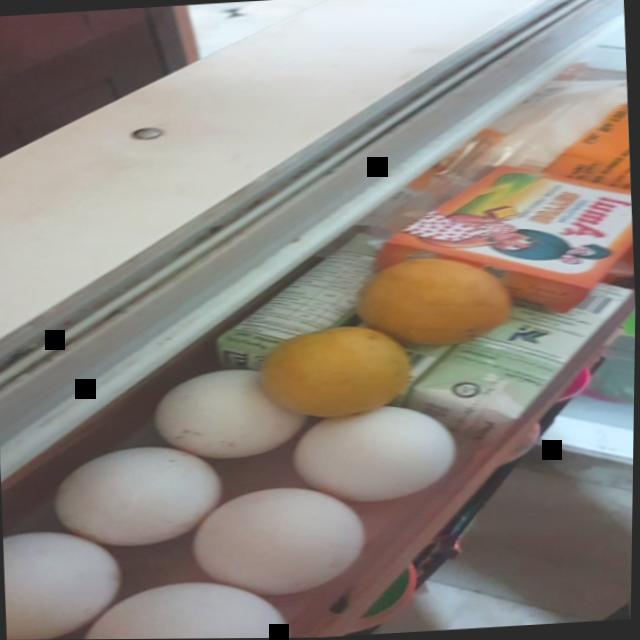eggs: (183, 472, 378, 602), (52, 431, 235, 554), (282, 396, 474, 508), (149, 353, 322, 475), (76, 565, 296, 640), (3, 523, 127, 640)
lemon: (246, 315, 431, 430), (349, 250, 516, 356)
